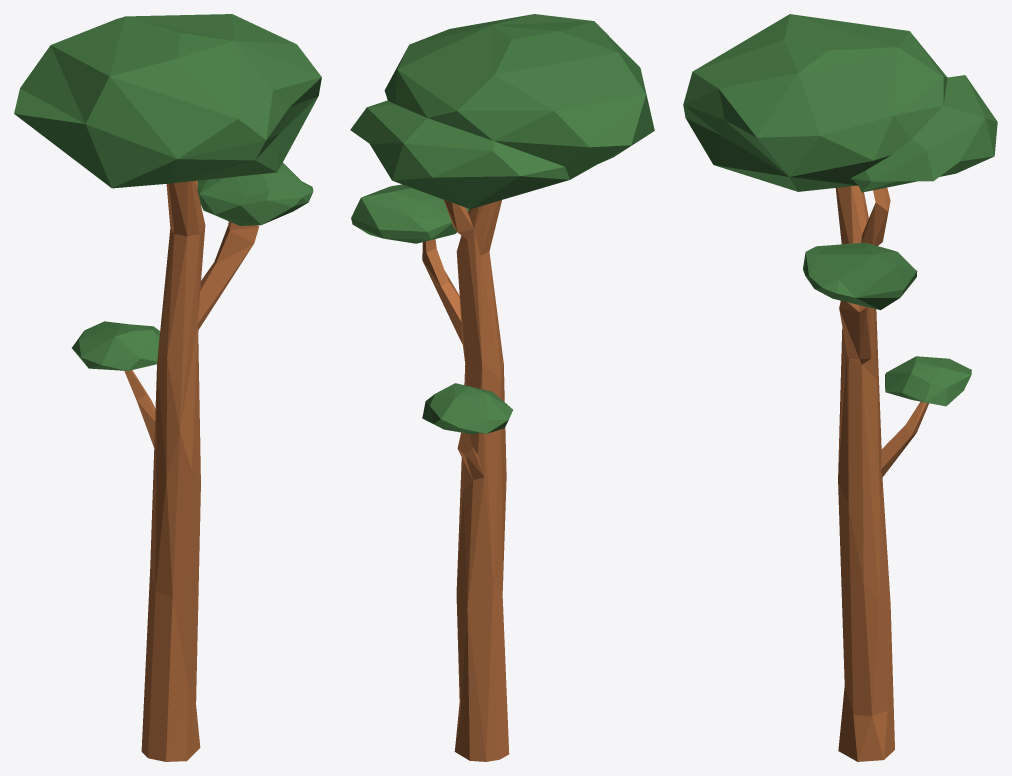
Rendered from tree05.gltf.
3 views of the same model, side by side, from view 1: azimuth 30°, elevation 25°; view 2: azimuth 150°, elevation 25°; view 3: azimuth 270°, elevation 25° (orthographic). The views are drawn at different scales.
Parts seen in each view (by area): view 1: Cylinder.001; view 2: Cylinder.001; view 3: Cylinder.001.
Boxes of the visible parts, <box> form: Cylinder.001: <box>14,14,321,761</box>; Cylinder.001: <box>350,14,654,761</box>; Cylinder.001: <box>683,14,997,761</box>.
Bounding box in the file's own units: 1.86 × 4.61 × 1.89.
Materials: 1 (1 with a texture image).
